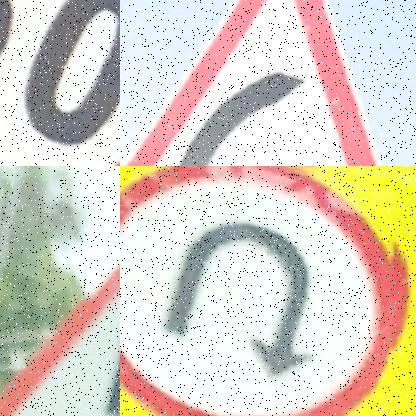Right bend: (129, 0, 387, 166)
Speed Limit -60 kmph-: (0, 0, 120, 166)
U-Turn: (120, 166, 392, 415), (0, 262, 120, 416)
